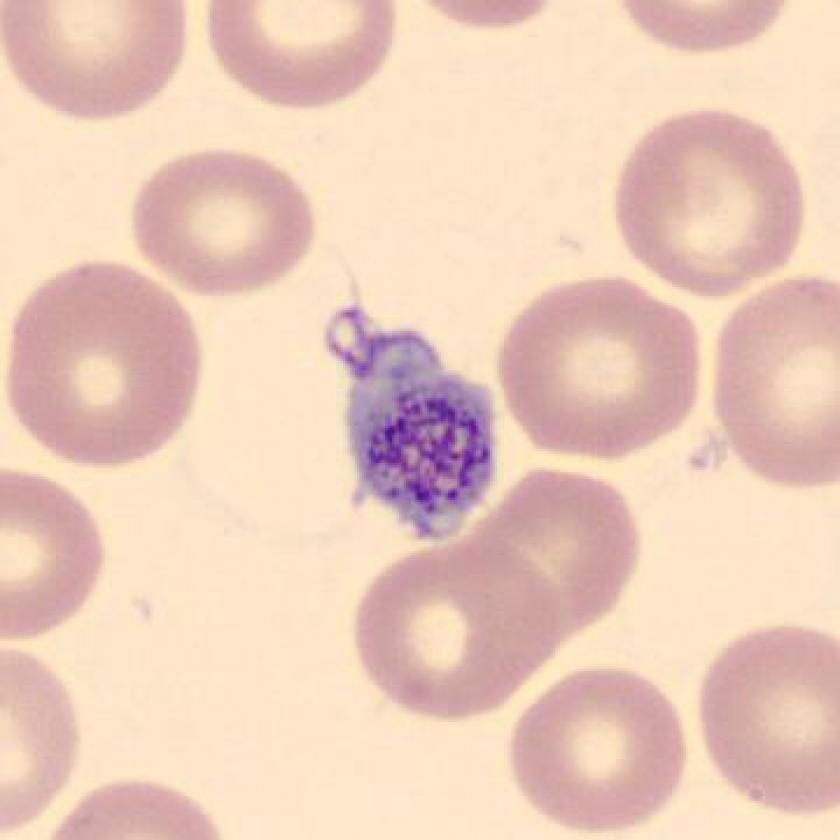platelets: (323, 316, 507, 547)
